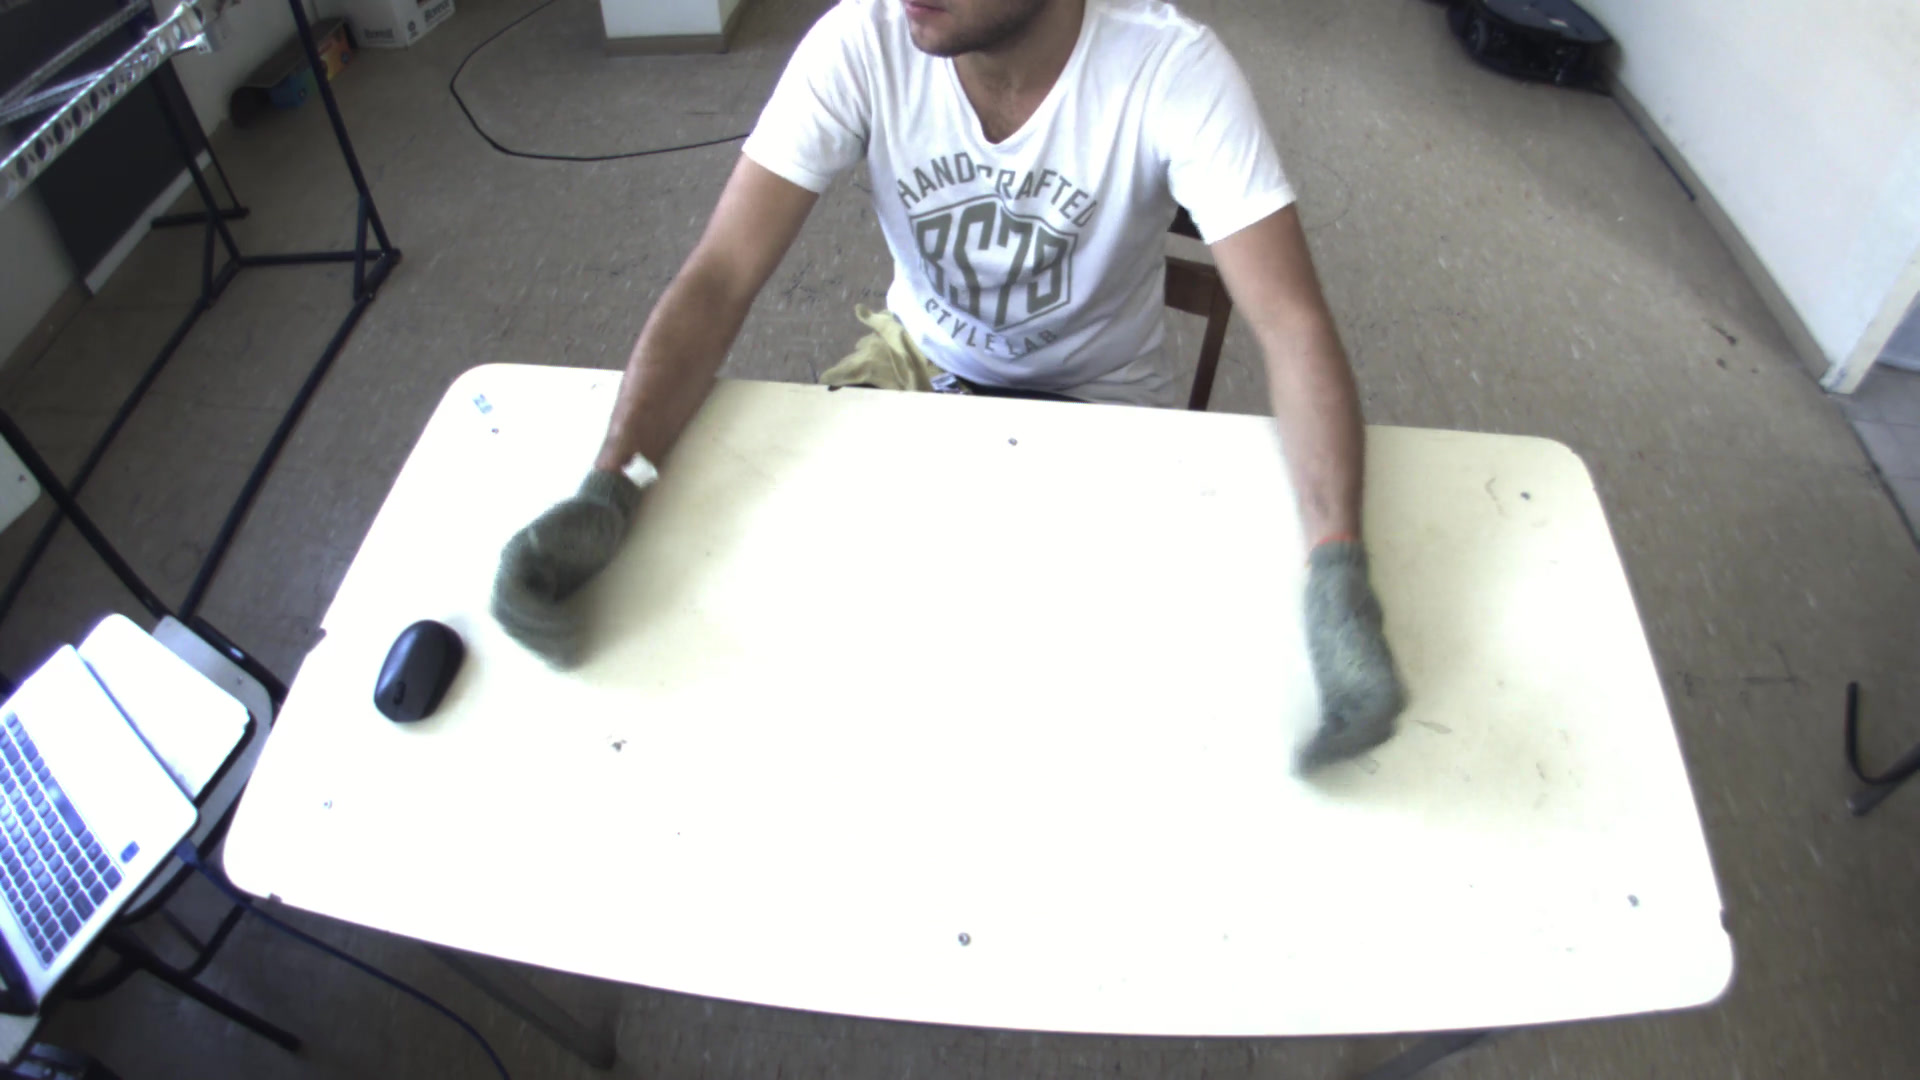hand: (1291, 542, 1418, 760), (485, 462, 637, 640)
